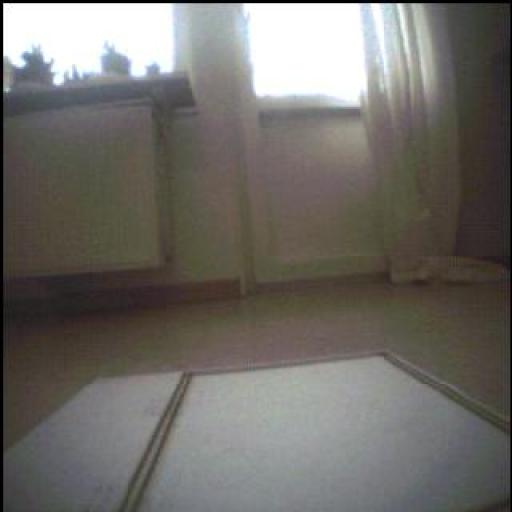Pad: (1, 349, 511, 512)
